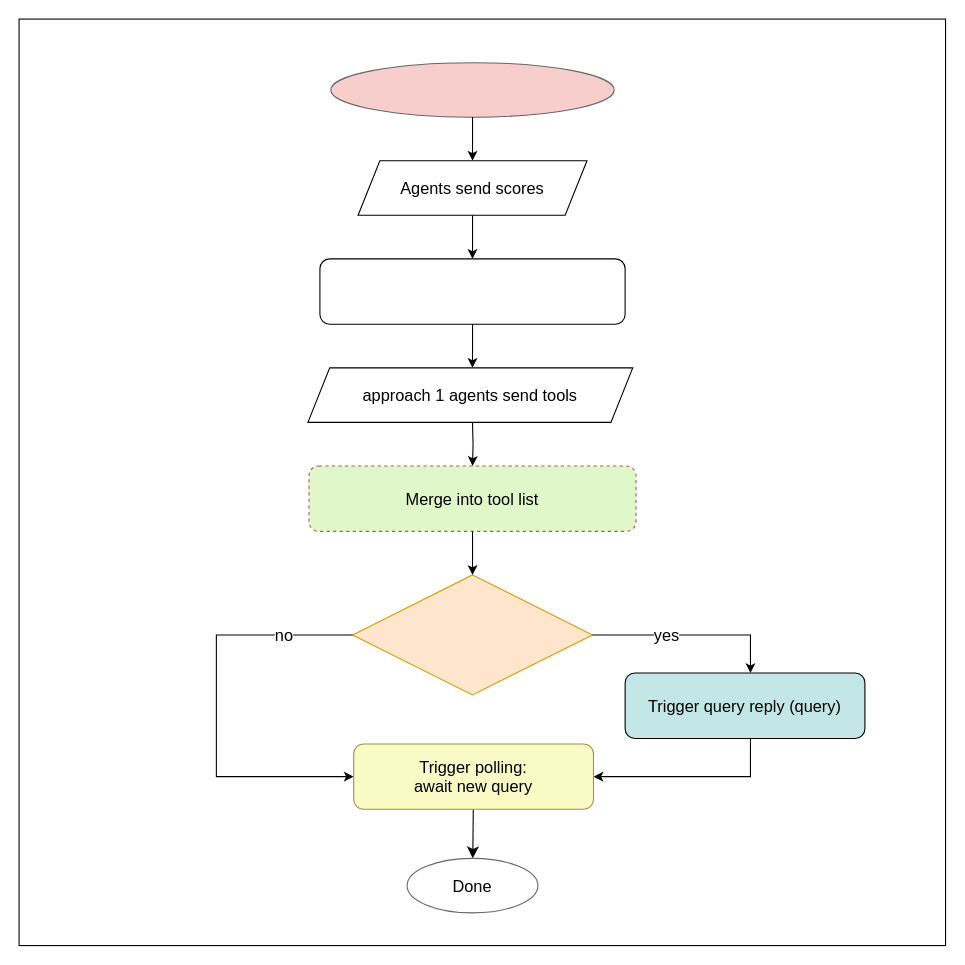
This 965x965 diagram has some shape labels left out. The centre of each missing label's shape, as x and y in pixels:
Backed-up query found?: (x=472, y=634)
Highest score becomes leader (tie-break by ID): (x=472, y=291)
Leader election triggered: (x=472, y=89)
